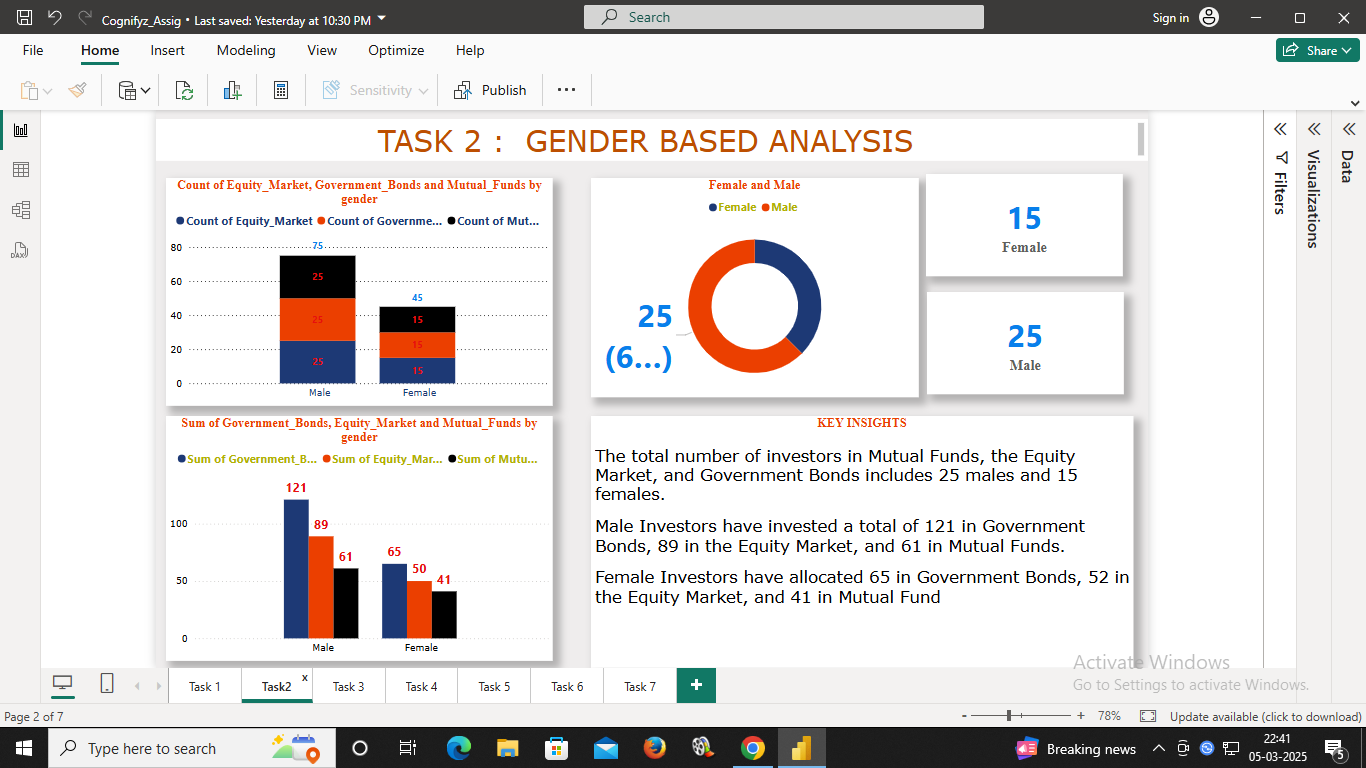

The dashboard page shown, as its layout file describes it:
{"tool":"powerbi","page":{"name":"Task2","canvas":[1280,720],"ordinal":1},"visuals":[{"type":"textbox","box":[0,11,1280.3,53.5],"z":0},{"type":"columnChart","title":"Count of Equity_Market, Government_Bonds and Mutual_Funds by gender","fields":{"Category":["Data_set 2.gender"],"Y":["Data_set 2.Equity_Market","Data_set 2.Government_Bonds","Data_set 2.Mutual_Funds"]},"box":[12.3,87.8,499.5,293.7],"z":1000},{"type":"clusteredColumnChart","title":"Sum of Government_Bonds, Equity_Market and  Mutual_Funds by gender","fields":{"Category":["Data_set 2.gender"],"Y":["Data_set 2.Government_Bonds","Data_set 2.Equity_Market","Data_set 2.Mutual_Funds"]},"box":[12.3,395.2,499.5,315.6],"z":2000},{"type":"donutChart","fields":{"Y":["Data_set 2.Female","Data_set 2.Male"]},"box":[561.2,87.8,422.6,282.7],"z":3000},{"type":"textbox","title":"KEY INSIGHTS","box":[561.2,395.2,699.8,325.2],"z":4000},{"type":"card","fields":{"Values":["Data_set 2.Female"]},"box":[993.5,82.3,253.9,131.7],"z":5000},{"type":"card","fields":{"Values":["Data_set 2.Male"]},"box":[994.9,234.6,253.9,131.7],"z":6000}]}

Visuals, with their boxes on the page's 1280x720 design canvas (x1, y1, x2, y2). These are canvas units, not pixel positions in the 1366x768 screenshot, which may show the page scaled, cropped or inside an application window:
textbox: [0,11,1280,64]
"Count of Equity_Market, Government_Bonds and Mutual_Funds by gender" columnChart: [12,88,512,382]
"Sum of Government_Bonds, Equity_Market and  Mutual_Funds by gender" clusteredColumnChart: [12,395,512,711]
donutChart - Data_set 2.Female x Data_set 2.Male: [561,88,984,370]
"KEY INSIGHTS" textbox: [561,395,1261,720]
card - Data_set 2.Female: [994,82,1247,214]
card - Data_set 2.Male: [995,235,1249,366]
